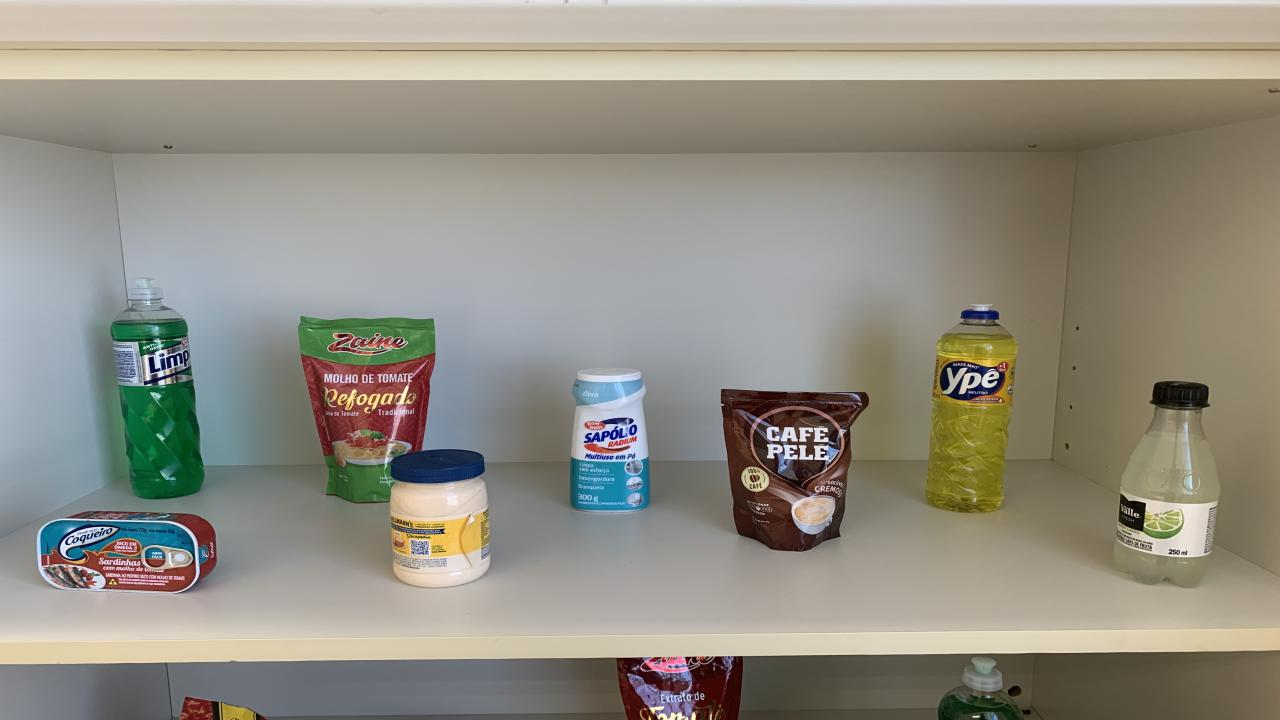Cleaner-Cleanup_Items: (567, 367, 654, 516)
Coffee-Pantry_Items: (721, 390, 869, 554)
Detergent-Cleanup_Items: (108, 275, 206, 505), (923, 306, 1020, 517), (936, 661, 1040, 720)
Mayonnaise-Pantry_Items: (386, 450, 492, 590)
Soda-Drinks: (1112, 381, 1223, 589)
Tomato_Sauce-Pantry_Items: (296, 317, 438, 507), (617, 657, 746, 720), (174, 698, 258, 720)
Tuna_Can-Pantry_Items: (34, 513, 219, 596)
